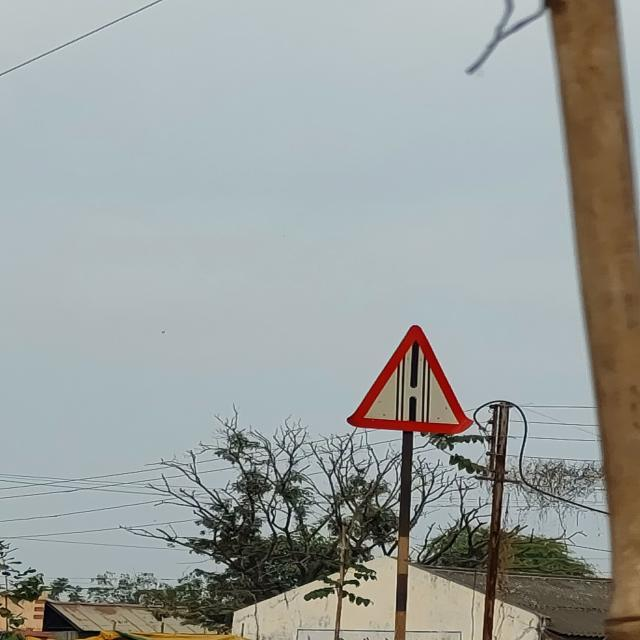gap in median: (341, 322, 479, 438)
